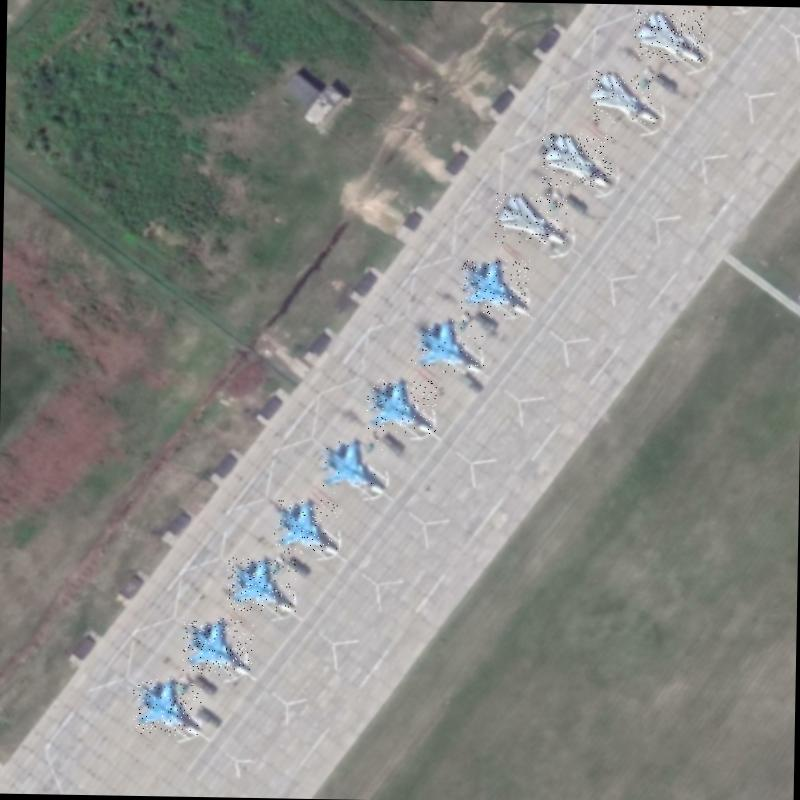A19: (410, 318, 484, 374), (182, 618, 253, 676), (132, 678, 202, 736), (366, 377, 436, 434), (460, 259, 530, 315), (318, 438, 388, 494), (226, 557, 297, 611), (274, 499, 340, 554)
A20: (633, 9, 705, 64), (540, 133, 612, 188), (587, 70, 659, 123), (494, 193, 568, 244)
